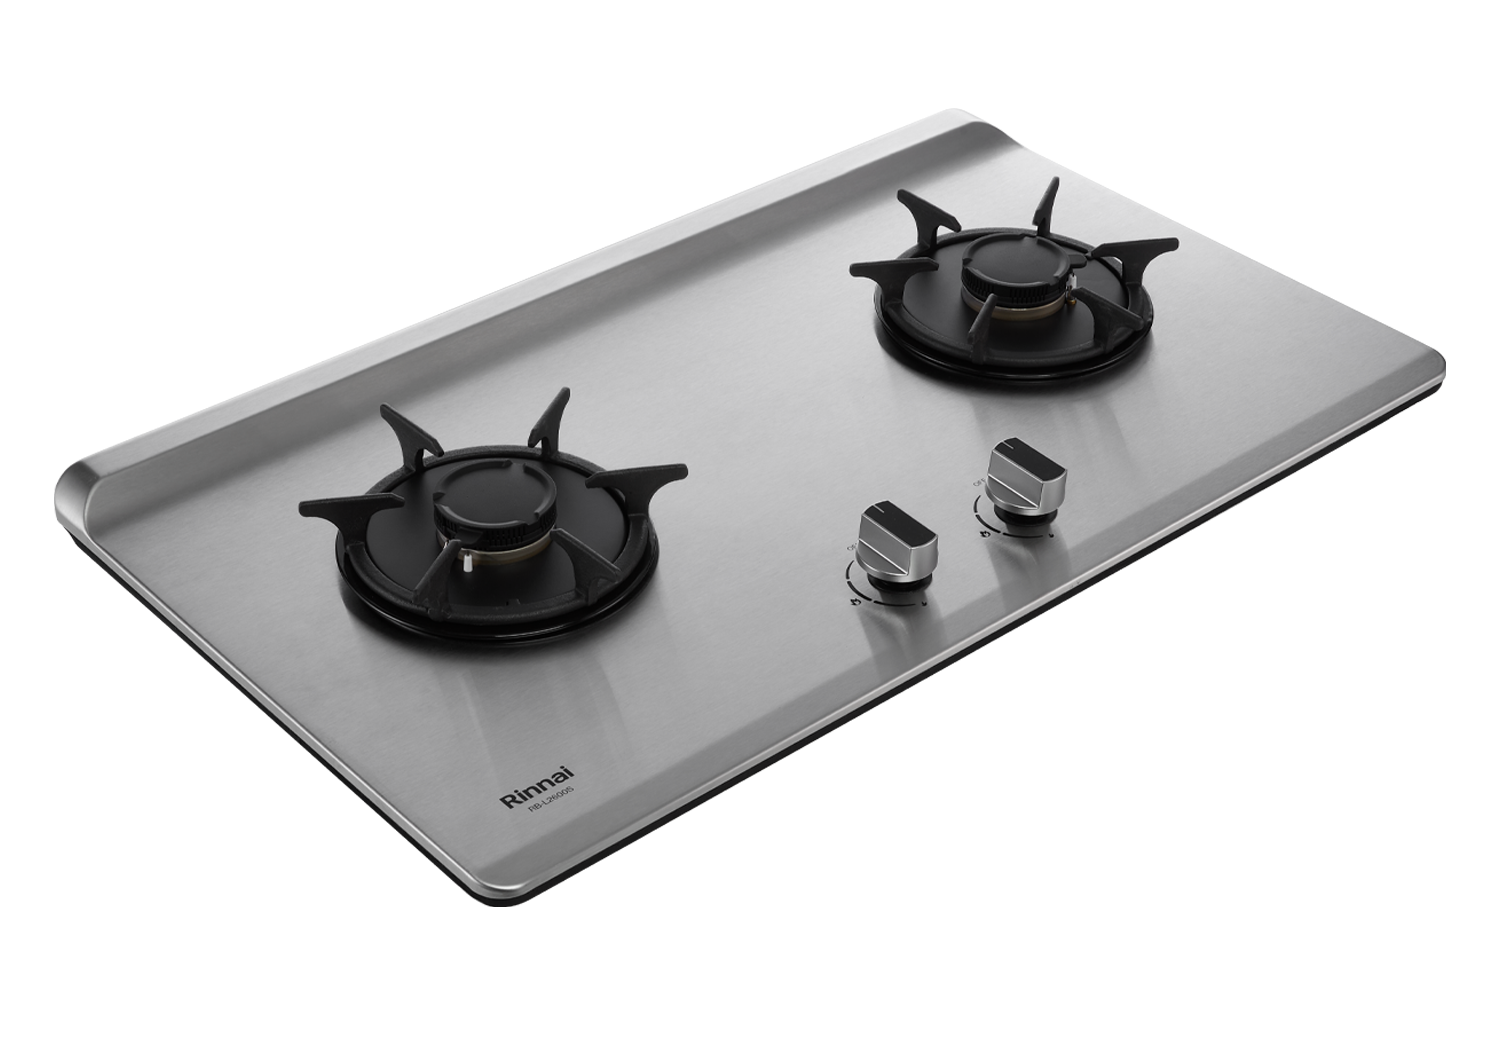gasoven: (50, 103, 1456, 914)
